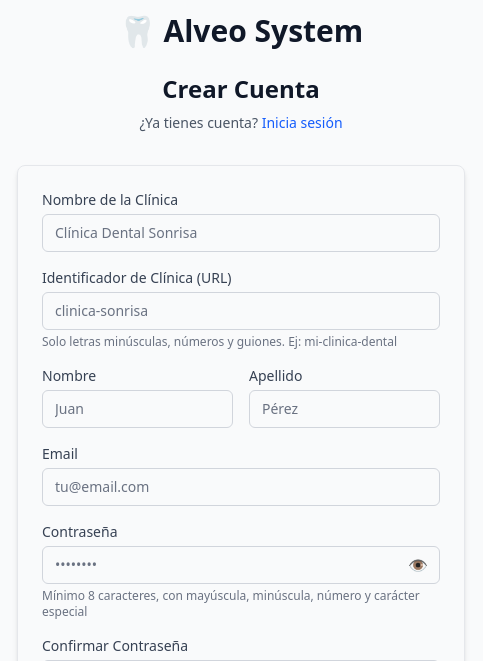
Test: RegisterPage › slug auto-generation › should auto-fill slug when typing clinic name
In the field labelled "Nombre de la Clínica": (241, 233) [42,214,440,252], type "My Dental Clinic"
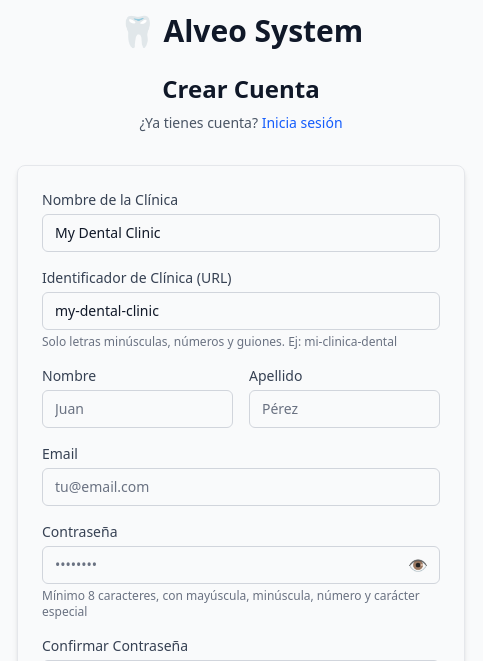
Expected: the field labelled "Identificador de Clínica (URL)" holds "my-dental-clinic", [42,292,440,330]
